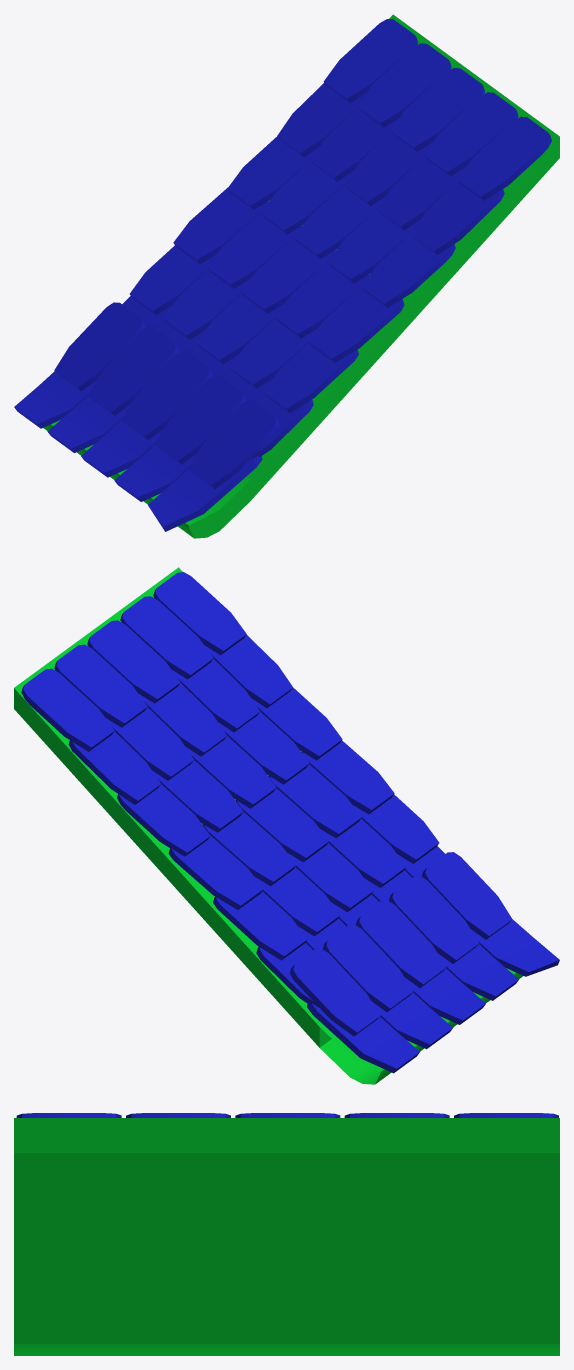
The model's file is Unity HD Render Pipeline (Metallic Standard).fbx.
3 renders of one model, top to bottom at view 1: azimuth 30°, elevation 25°; view 2: azimuth 150°, elevation 25°; view 3: azimuth 270°, elevation 25°, orthographic. The views are drawn at different scales.
Visible parts, largest first — view 1: RoofRepetitionBottom (×2); view 2: RoofRepetitionBottom (×2); view 3: RoofRepetitionBottom (×2).
Part boxes in pixels (left/top/right/bottom): RoofRepetitionBottom (×2): left=14, top=14, right=559, bottom=538; RoofRepetitionBottom (×2): left=14, top=567, right=559, bottom=1084; RoofRepetitionBottom (×2): left=14, top=1113, right=559, bottom=1355.
Bounding box in the file's own units: 2.71 × 2.09 × 2.
